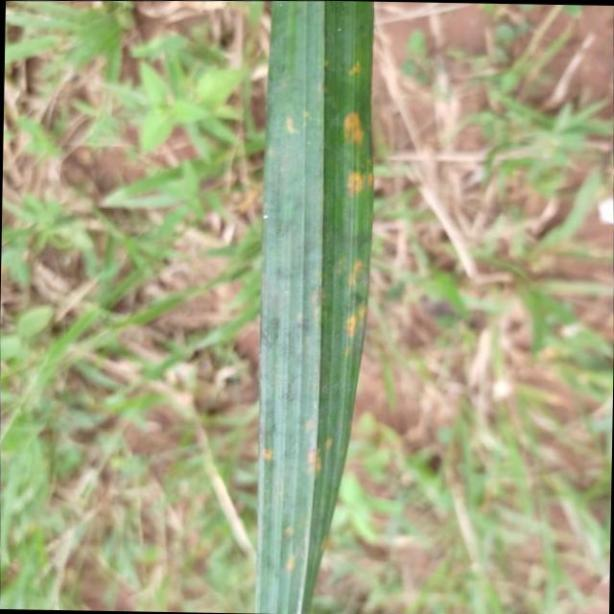Kalium: (260, 0, 376, 614)
